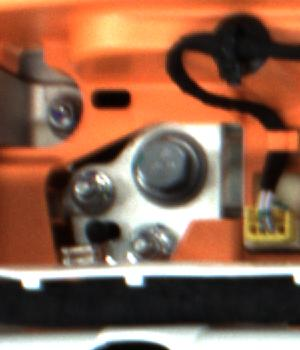nut_b: (131, 123, 215, 209)
